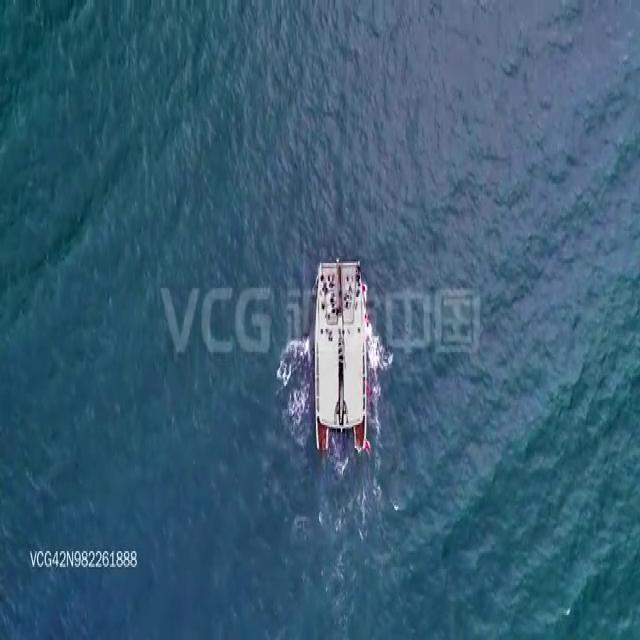houseboat: (305, 258, 373, 455)
